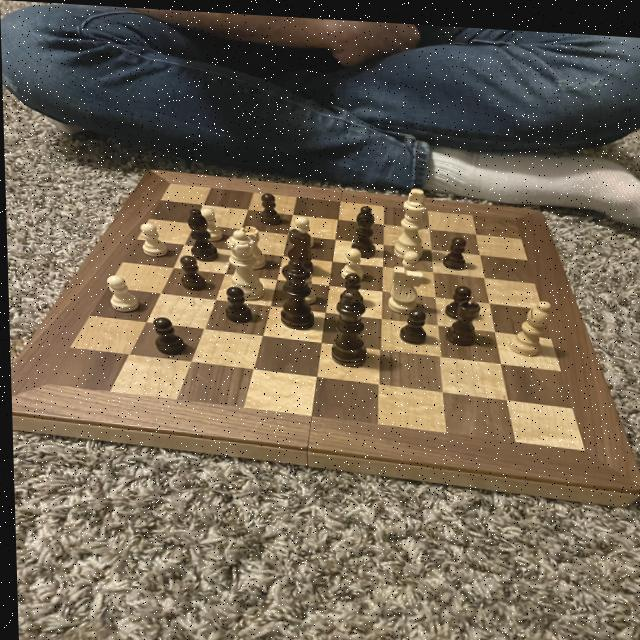bishop: (182, 205, 219, 262), (343, 198, 378, 256)
black-bishop: (324, 283, 369, 367)
black-king: (283, 223, 315, 272)
black-knight: (147, 314, 185, 356), (219, 280, 255, 324), (394, 302, 428, 342), (440, 277, 473, 317), (174, 251, 207, 291), (253, 187, 285, 224), (335, 267, 366, 304), (438, 229, 467, 266)
black-pawn: (275, 254, 319, 328)
black-queen: (438, 292, 483, 344)
black-rook: (503, 291, 554, 353)
white-bishop: (385, 180, 429, 258)
white-king: (382, 259, 428, 311)
white-knight: (101, 271, 140, 314), (135, 219, 169, 257), (336, 240, 365, 280), (196, 203, 224, 242), (288, 210, 316, 246), (294, 262, 316, 303), (396, 244, 421, 277)
white-pawn: (223, 225, 264, 301)
white-queen: (235, 222, 267, 269)
